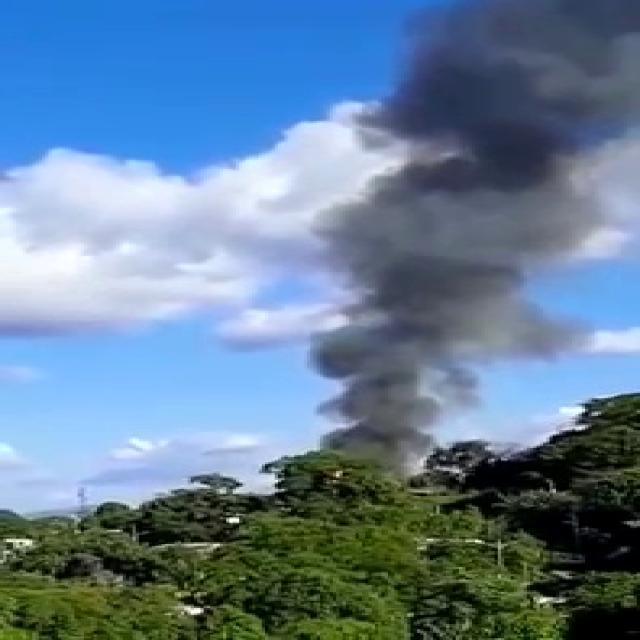Smoke: (301, 0, 640, 450)
